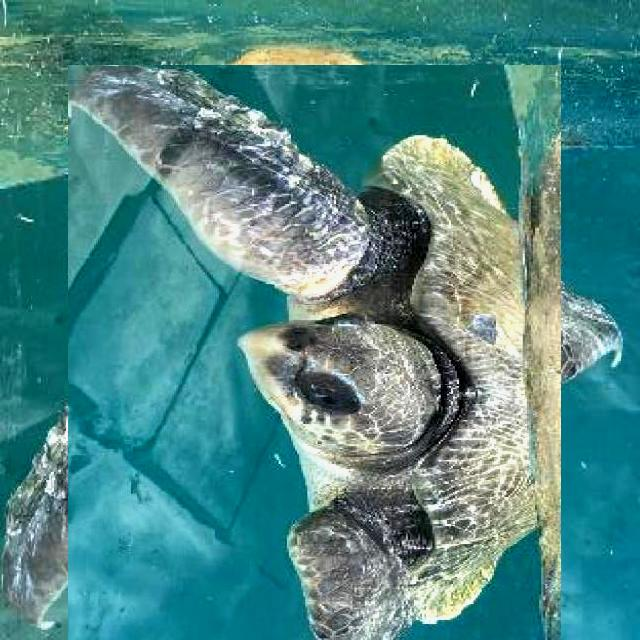Sea turtle: (34, 98, 594, 640)
